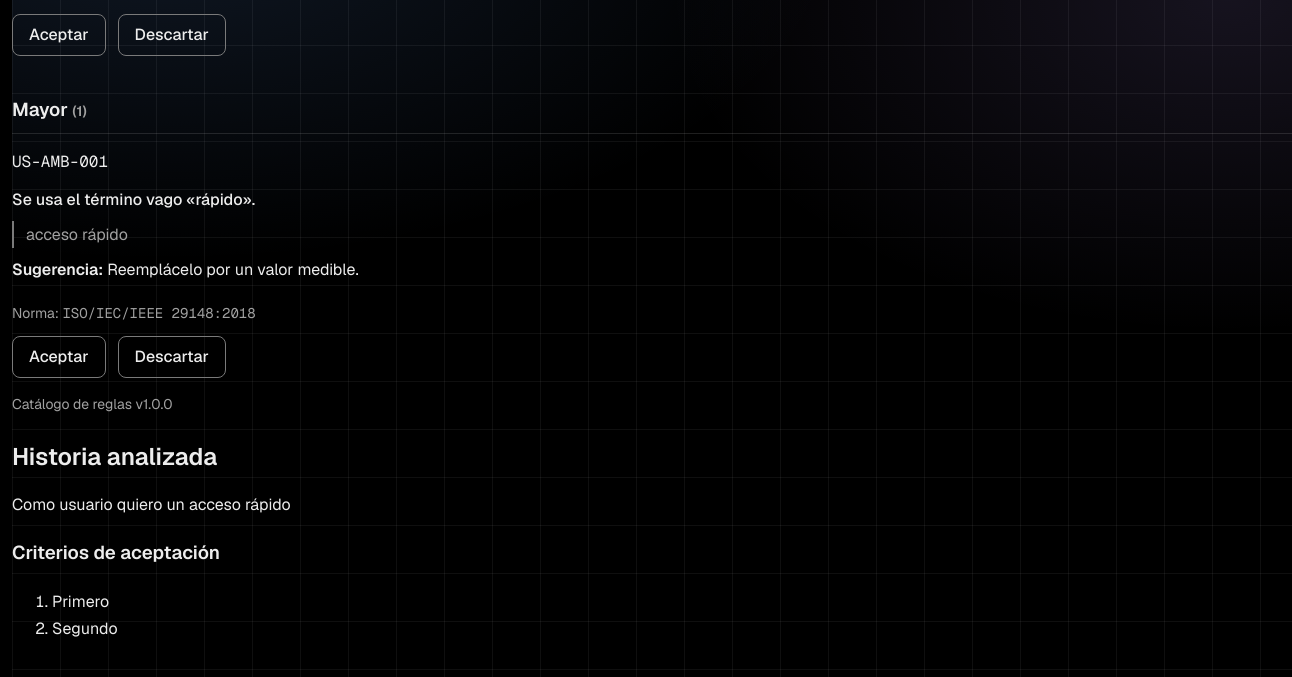
Scenario: AnalysisPage - decisiones › descartar con motivo recalcula el puntaje y muestra el motivo
This screenshot has width=1292, height=677.
(page scrolled)
Click the button "Descartar" below "US-AMB-001".
click(172, 357)  # box [118,336,226,378]
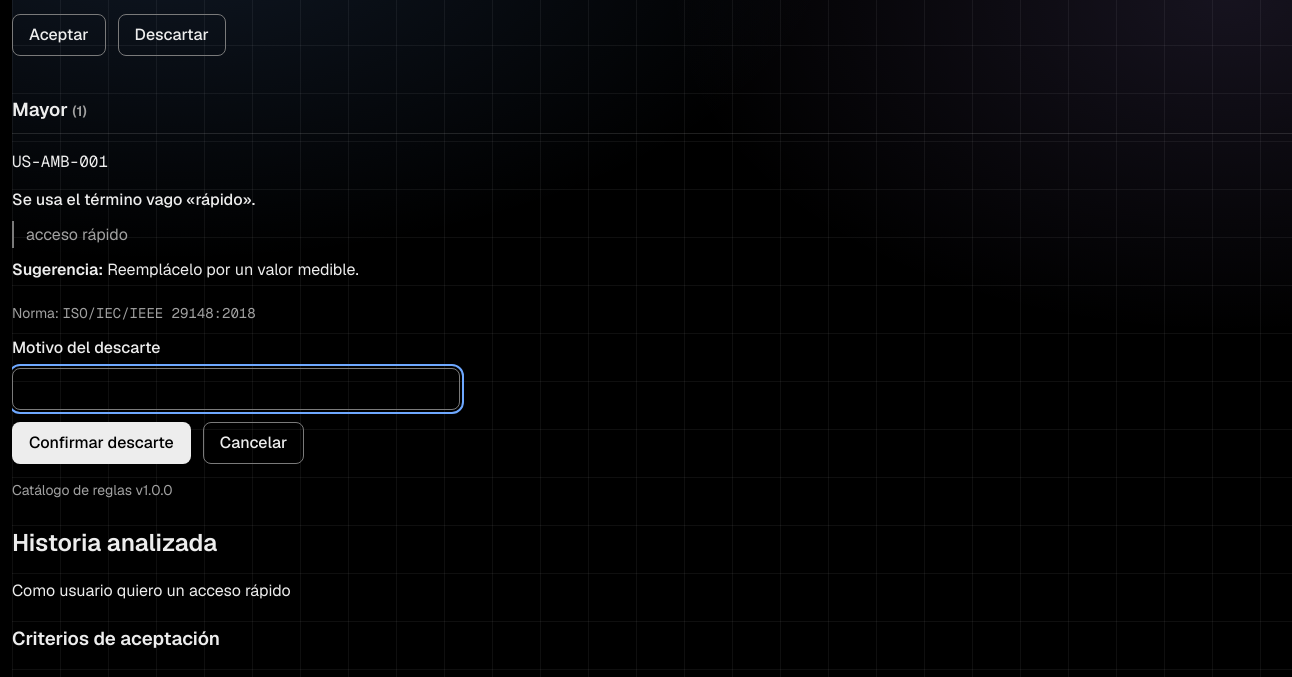
Type "Lo aprobó el PO" into the field labelled "Motivo del descarte".
click(236, 389); type("Lo aprobó el PO")  # box [12,368,460,410]
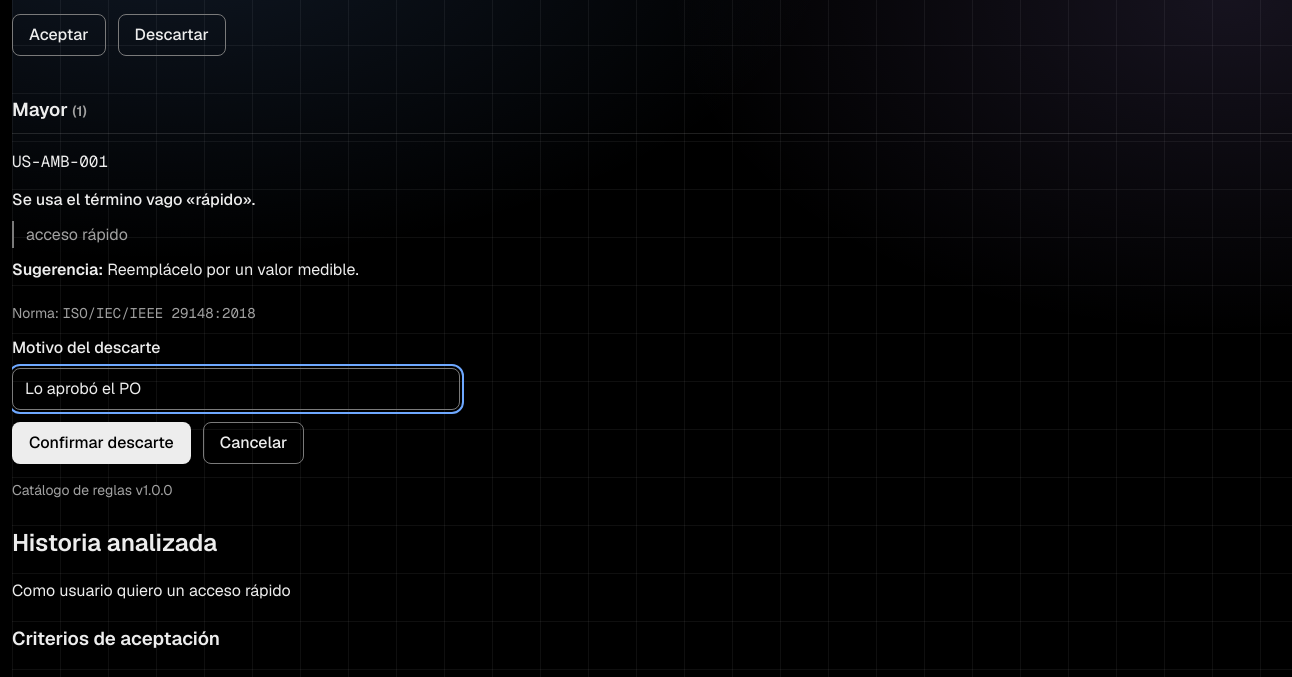
Click the button "Confirmar descarte".
click(101, 443)  # box [12,422,191,464]
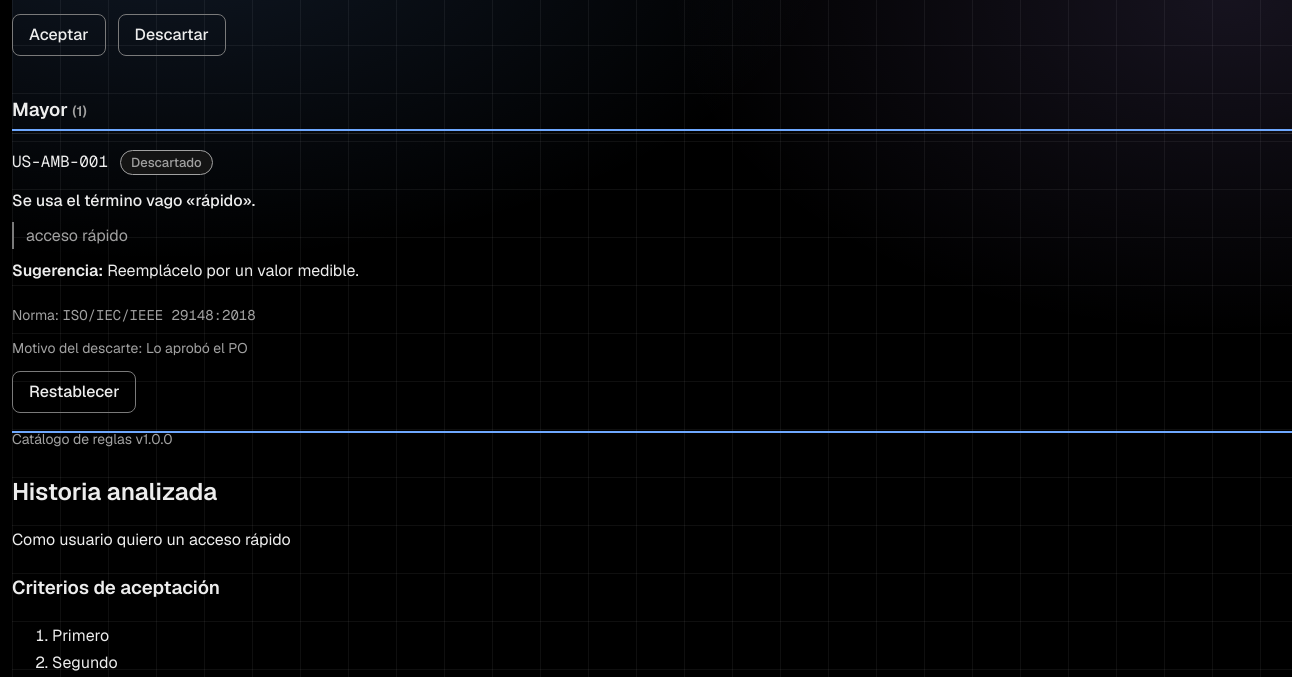
Expected: the text "Motivo del descarte: Lo aprobó el PO" is shown, [12,339,248,357]
